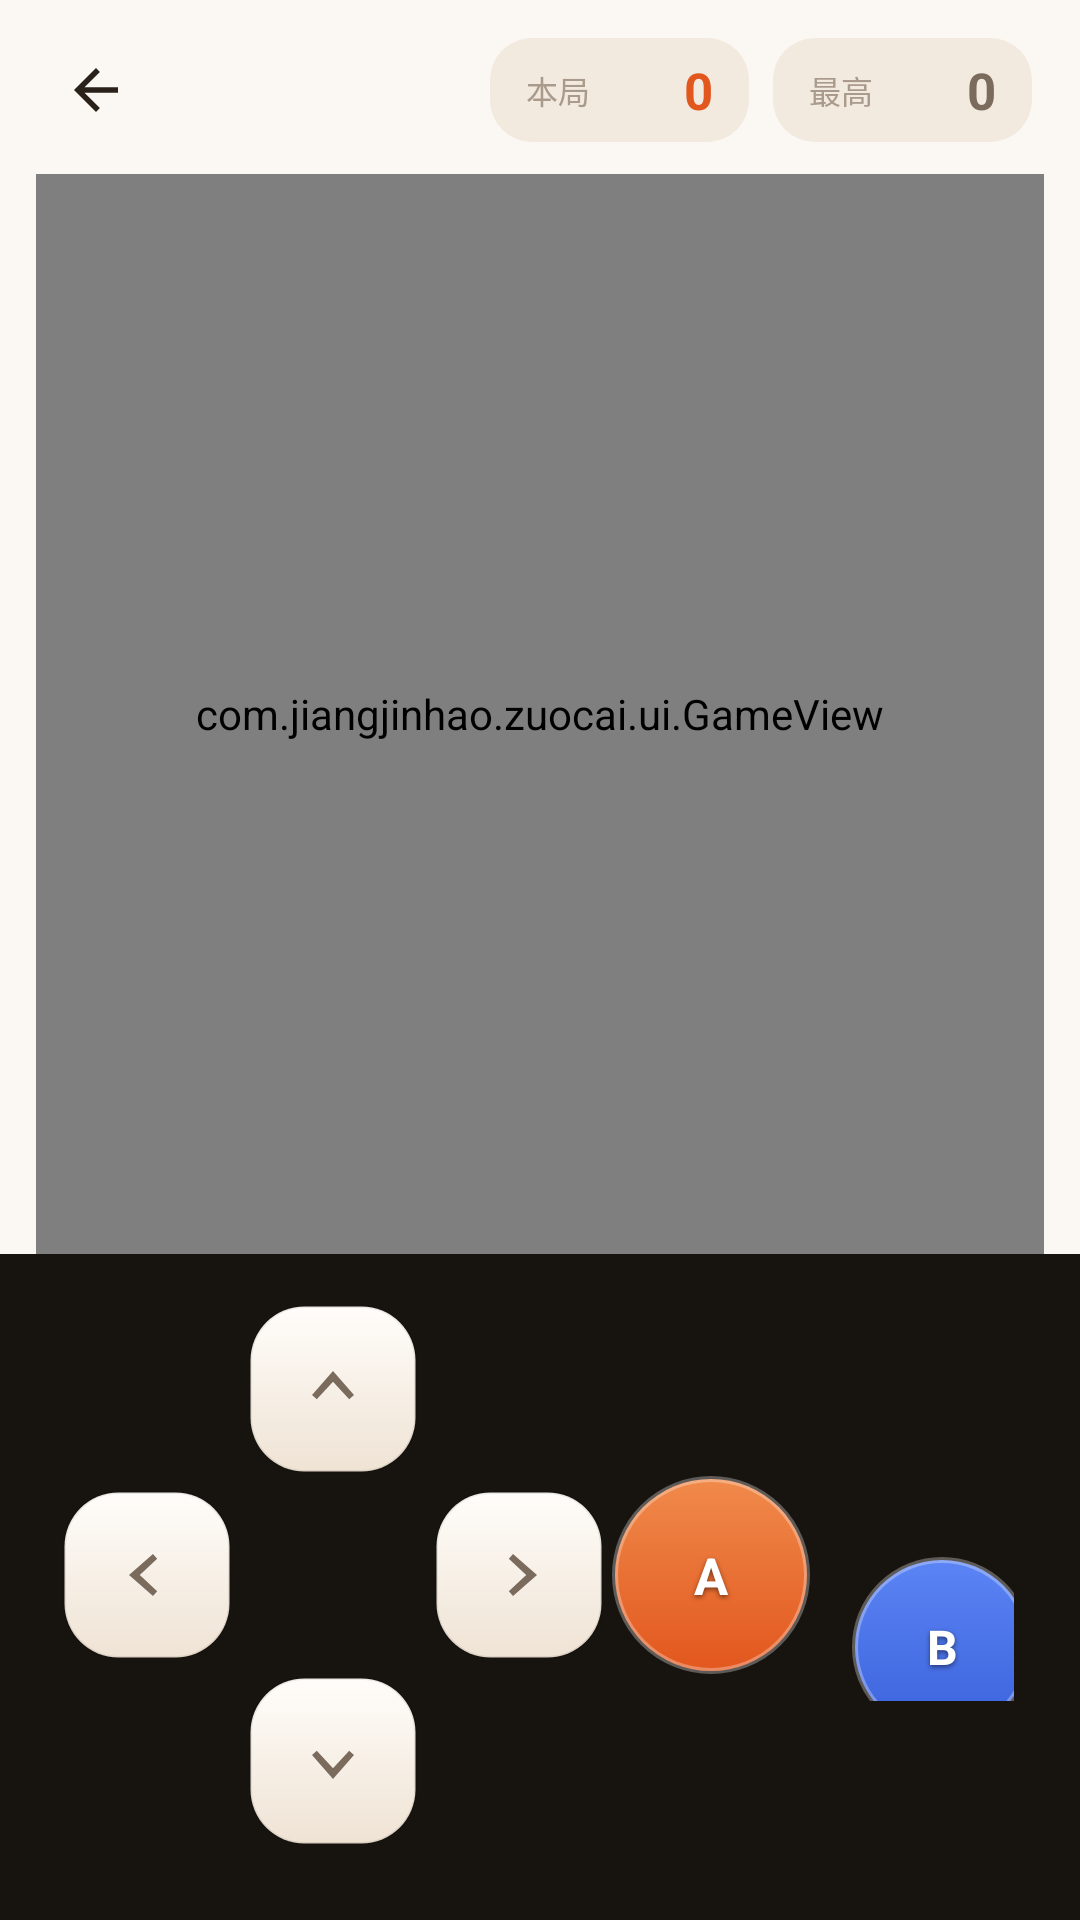

Where to tap for icons on this 1080px x 1920px app screen, as (x=x, y=y):
arrow down: (x=333, y=1761)
arrow left: (x=147, y=1575)
arrow right: (x=519, y=1575)
arrow up: (x=333, y=1389)
返回: (x=96, y=90)
